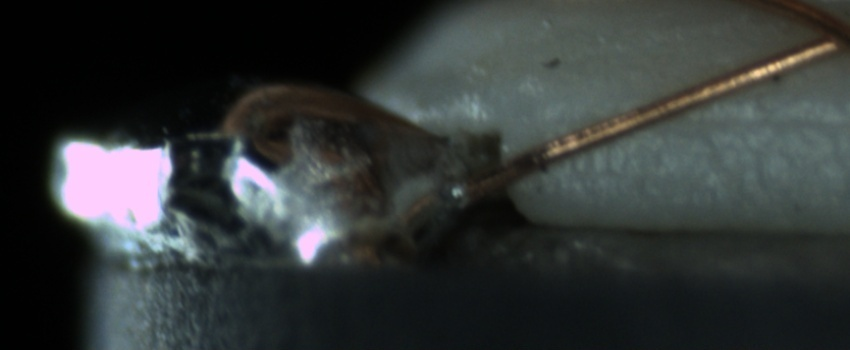CL: (792, 4, 849, 62)
DL: (623, 86, 850, 154)
